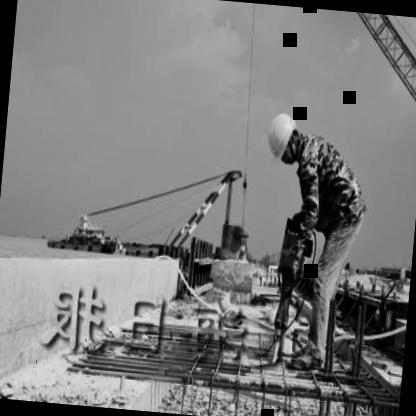helmet: (262, 106, 304, 170)
